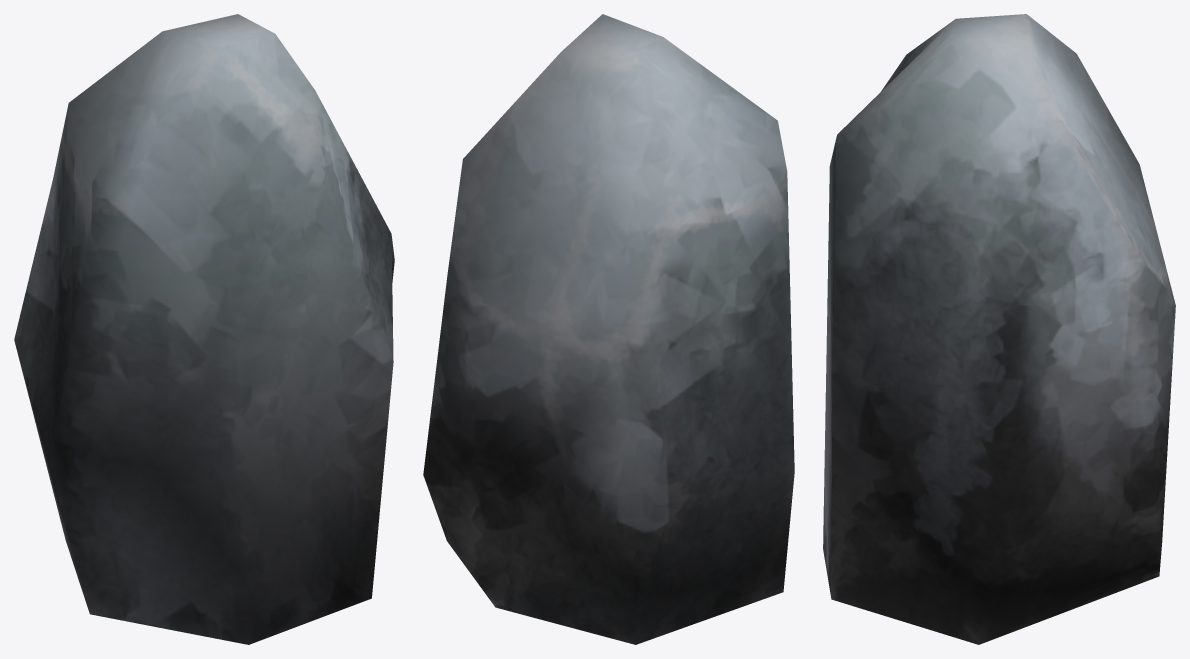
File: Msh_Rock3_Env.fbx
The picture shows the model from 3 angles, left to right: view 1: azimuth 30°, elevation 25°; view 2: azimuth 150°, elevation 25°; view 3: azimuth 270°, elevation 25°; orthographic projection.
Parts seen in each view (by area): view 1: Rock_3; view 2: Rock_3; view 3: Rock_3.
Part boxes in pixels (x1,y1,x2,y2): Rock_3: (14,14,394,644); Rock_3: (423,14,794,644); Rock_3: (823,14,1175,644).
Bounding box in the file's own units: 26.14 × 39.67 × 22.85.
